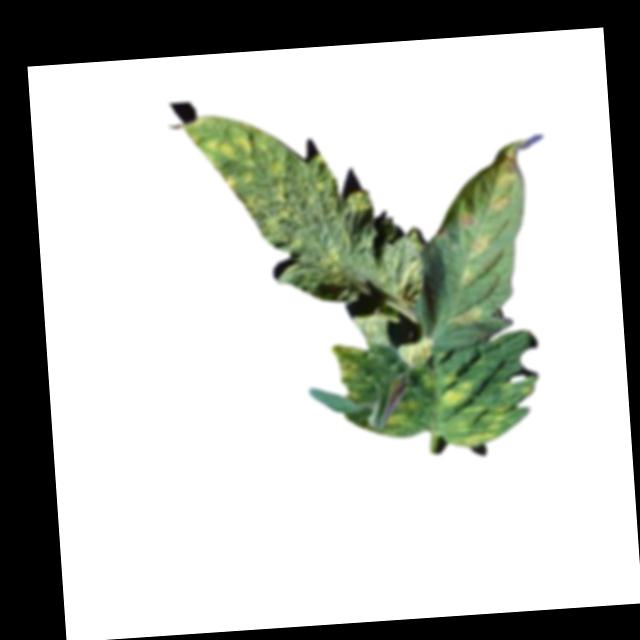Leaf_Mold: (181, 108, 301, 256), (433, 365, 539, 449), (328, 340, 371, 384), (488, 147, 521, 186), (398, 338, 437, 368), (464, 231, 498, 261), (452, 300, 486, 330), (315, 243, 347, 274), (453, 264, 478, 289), (491, 189, 510, 212)
